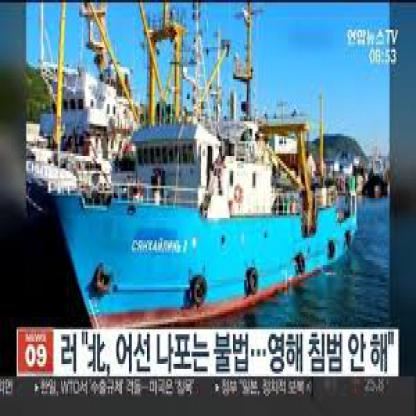fish-b: (34, 5, 364, 334)
